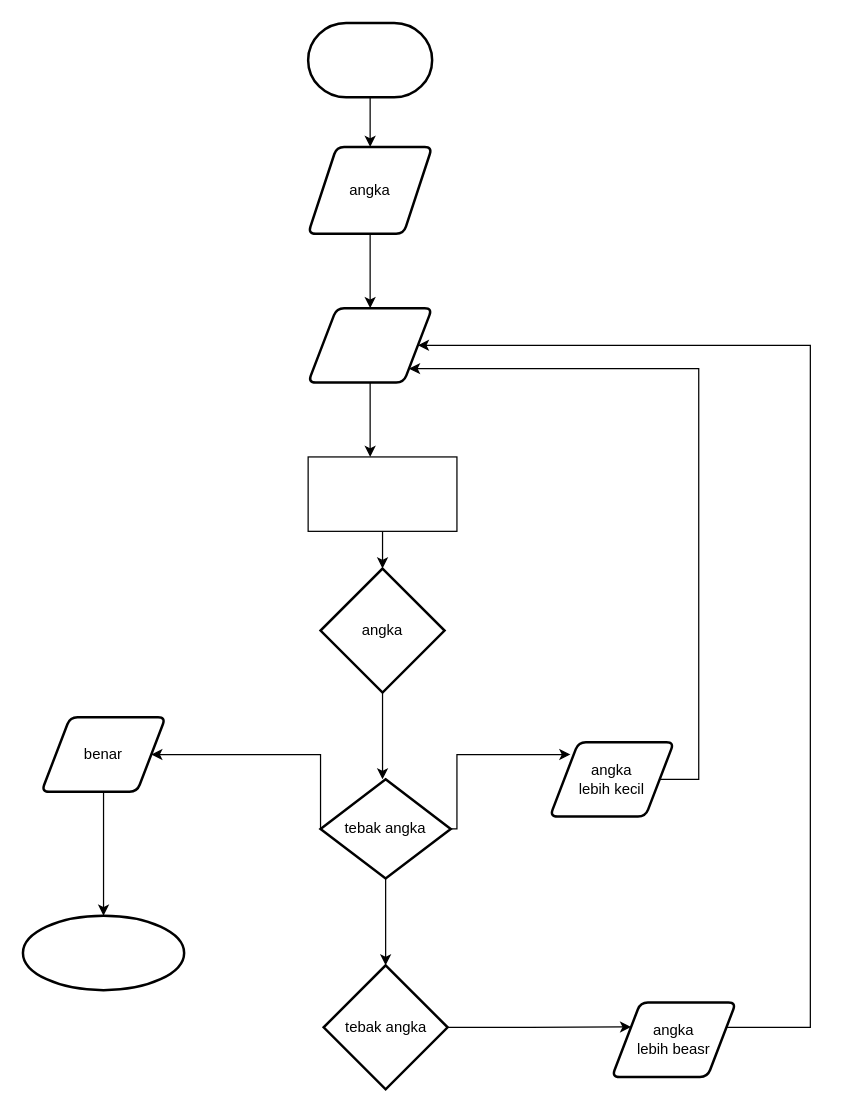
The diagram is 842 pixels wide and 1111 high, and some of its shapes have lost their labels. The centre of each missing label's shape, as x and y in pixels:
end: point 103,952
mulai: point 369,59
proses penebakan angka: point 382,493
tebakan: point 369,344
